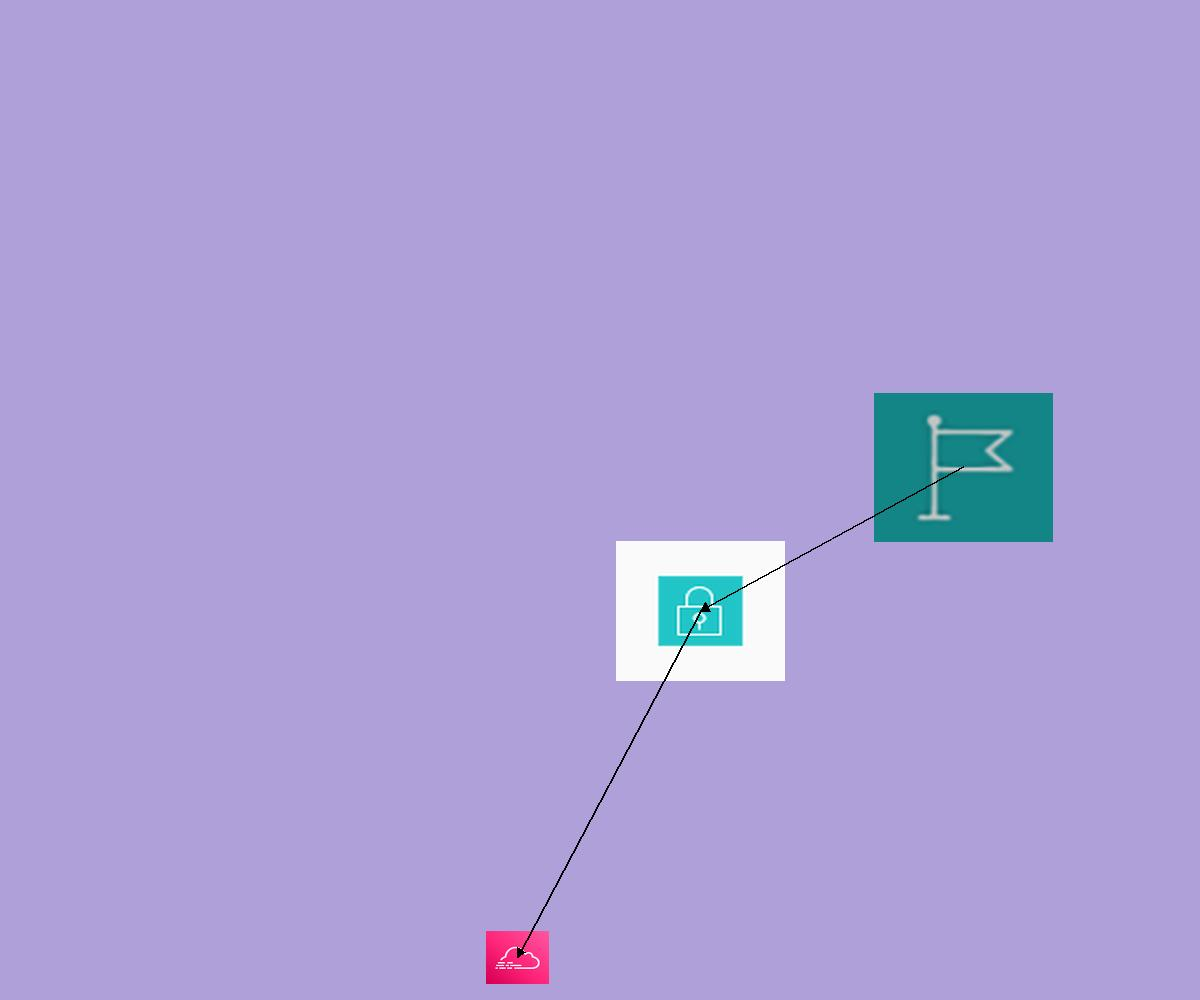AWS-CloudTrail: (486, 931, 549, 984)
AWS-Private-subnet: (616, 541, 785, 681)
AWS-Region: (874, 393, 1053, 542)
